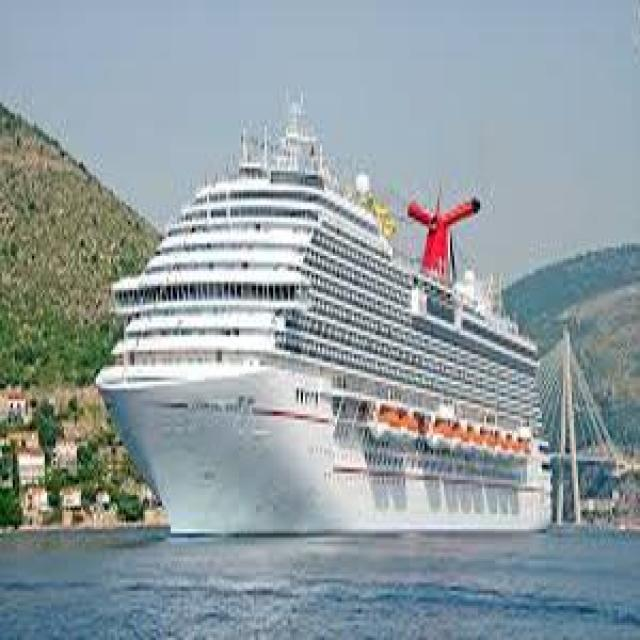passenger ship: (89, 133, 561, 532)
